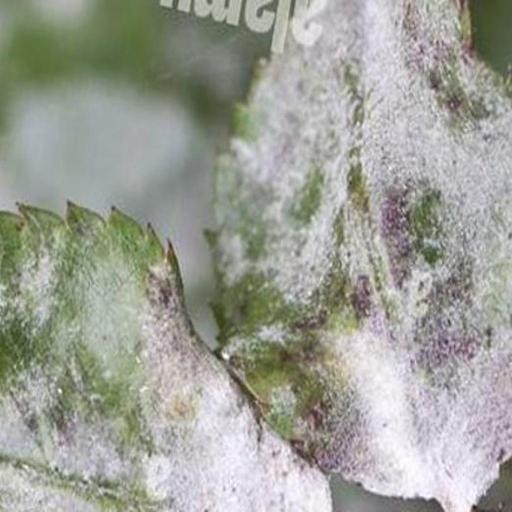powdery_mildew: (215, 0, 512, 512), (0, 203, 330, 512)
